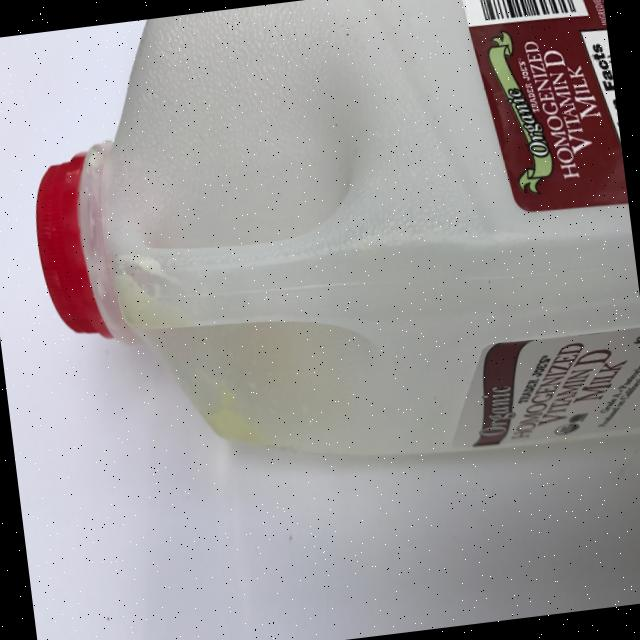plastic: (11, 0, 640, 502)
